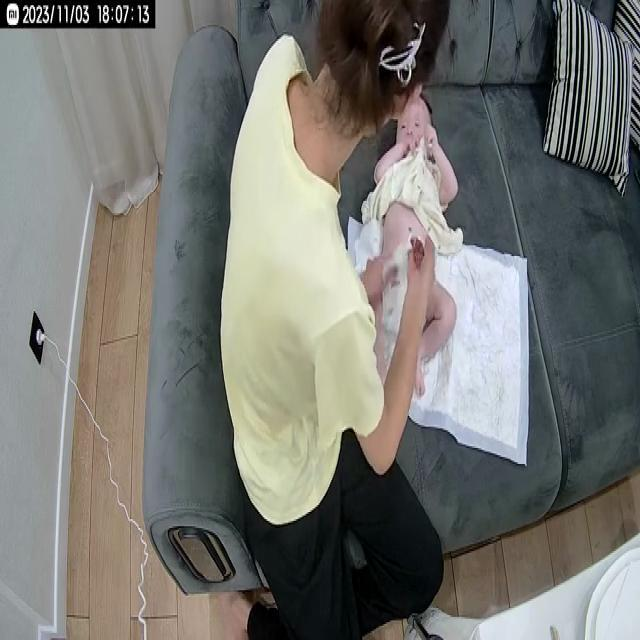baby: (366, 89, 462, 398)
